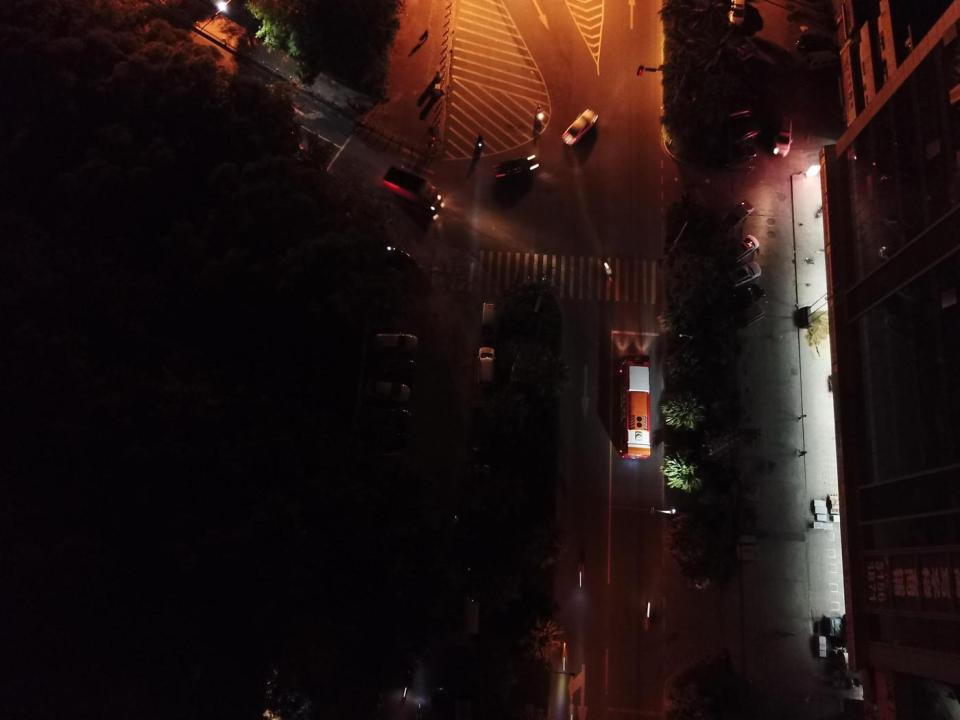bus: (616, 353, 652, 460)
car: (560, 108, 599, 148), (370, 354, 418, 380), (366, 406, 416, 430), (367, 376, 411, 402), (493, 154, 536, 180), (730, 282, 766, 310), (726, 260, 762, 288), (727, 234, 759, 265), (374, 331, 418, 353), (770, 115, 792, 158), (727, 120, 763, 146), (725, 143, 758, 168), (795, 33, 835, 53), (724, 100, 754, 124), (725, 0, 747, 26)
truck: (381, 165, 443, 217)
van: (720, 198, 754, 236), (478, 300, 500, 342), (805, 49, 841, 73), (476, 347, 498, 384), (736, 304, 766, 330)
